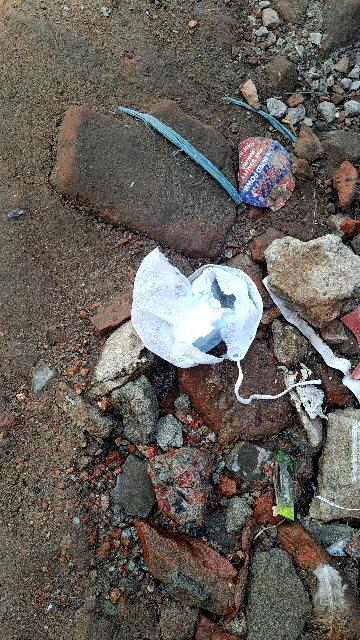mask: (132, 229, 275, 366)
